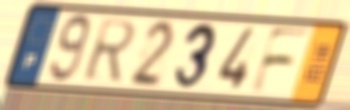2: (126, 18, 176, 91)
3: (170, 20, 221, 93)
4: (215, 25, 258, 94)
9: (45, 12, 93, 86)
F: (247, 26, 314, 97)
R: (81, 18, 140, 84)
